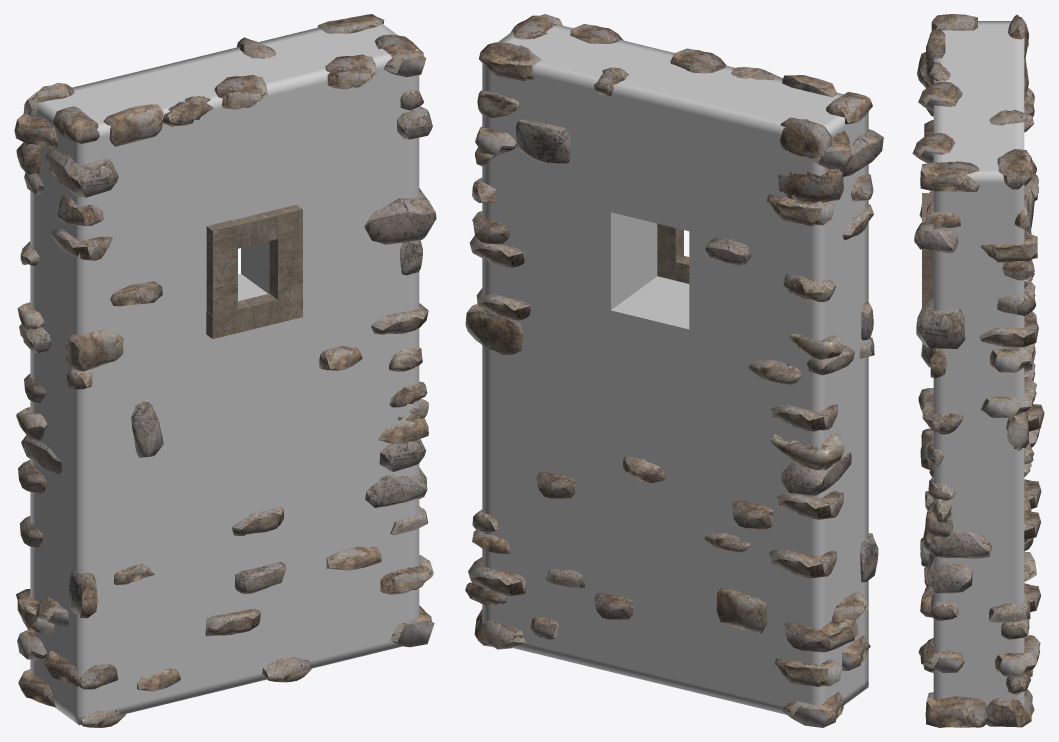
Rendered from SM_Wall09.FBX.
The picture shows the model from 3 angles, left to right: view 1: azimuth 30°, elevation 25°; view 2: azimuth 150°, elevation 25°; view 3: azimuth 270°, elevation 25°; orthographic projection. The views are drawn at different scales.
Parts seen in each view (by area): view 1: SM_Wall09; view 2: SM_Wall09; view 3: SM_Wall09.
Boxes of the visible parts, bbox=[...] form: SM_Wall09: bbox=[14, 14, 436, 727]; SM_Wall09: bbox=[465, 14, 883, 727]; SM_Wall09: bbox=[912, 14, 1044, 727].
Bounding box in the file's own units: 675 × 218 × 1033.
